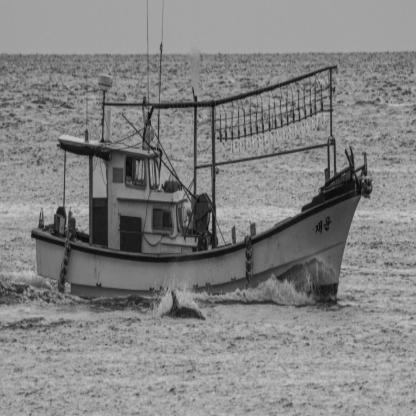Ship: (28, 14, 383, 331)
